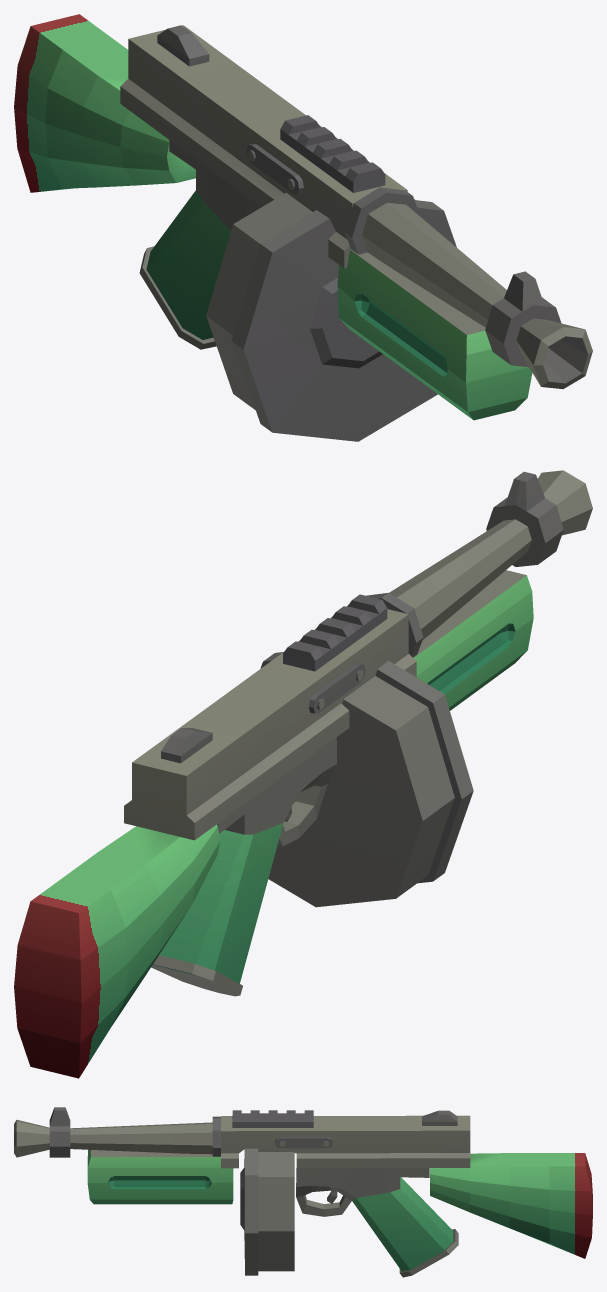
Rendered from fbx-gun-tommy-gun.fbx.
3 views of the same model, one above another, from view 1: azimuth 30°, elevation 25°; view 2: azimuth 150°, elevation 25°; view 3: azimuth 270°, elevation 25° (orthographic). The views are drawn at different scales.
Visible parts, largest first — view 1: mesh-gun-tommy-gun; view 2: mesh-gun-tommy-gun; view 3: mesh-gun-tommy-gun.
Boxes of the visible parts, bbox=[...] form: mesh-gun-tommy-gun: bbox=[14, 14, 592, 441]; mesh-gun-tommy-gun: bbox=[14, 470, 592, 1078]; mesh-gun-tommy-gun: bbox=[14, 1107, 592, 1277].
Size of the model in its own units: 0.566 by 0.6954 by 2.22.
